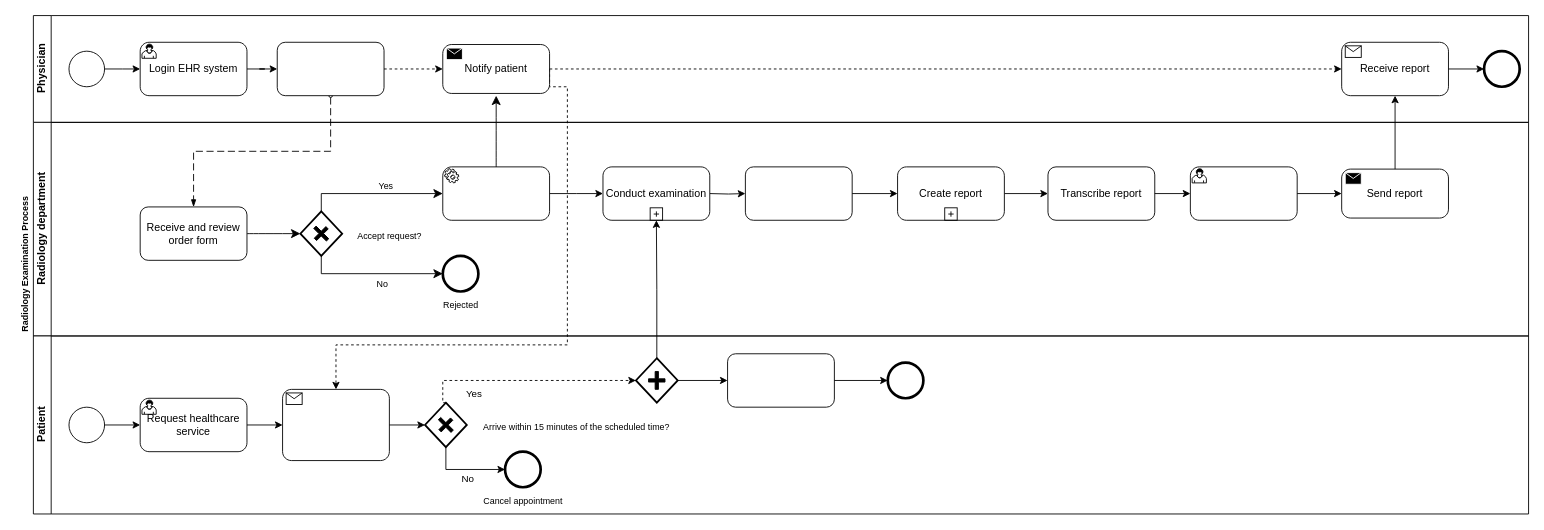
This 1544x530 diagram has some shape labels left out. Each missing label, with the centre of its shape:
"Get radiological procedure" belongs at point 780,380.
"Receive scheduled appointment" belongs at point 335,424.
"Review and sign report" belongs at point 1243,193.
"Schedule examination" belongs at point 496,193.
"Store images in PACS" belongs at point 798,193.
"Submit digital order form" belongs at point 330,68.
